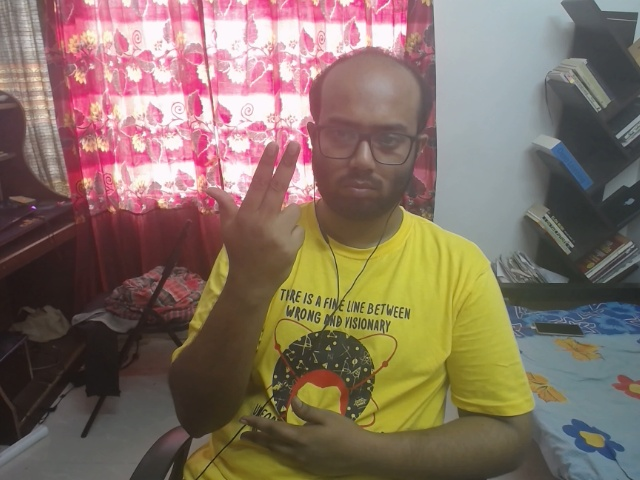eight: (178, 109, 325, 281)
